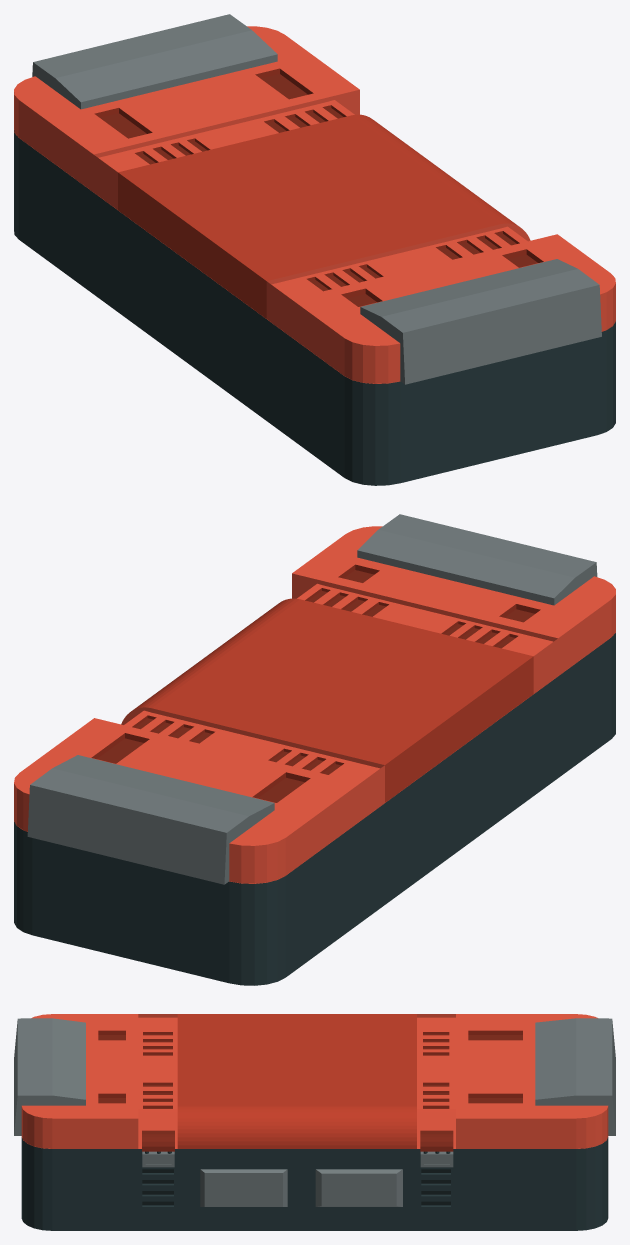
File: BoxFlat.fbx
3 views of the same model, one above another, from view 1: azimuth 30°, elevation 25°; view 2: azimuth 150°, elevation 25°; view 3: azimuth 270°, elevation 25° (orthographic). The views are drawn at different scales.
Visible parts, largest first — view 1: Tapa, Base; view 2: Tapa, Base; view 3: Tapa, Base, Cylinder.002, Cylinder.001.
Part boxes in pixels (x1,y1,x2,y2): Tapa: (14, 14, 615, 384); Base: (14, 130, 615, 485); Tapa: (14, 514, 615, 884); Base: (14, 632, 615, 985); Tapa: (14, 1014, 615, 1148); Base: (21, 1137, 608, 1230); Cylinder.002: (420, 1130, 453, 1167); Cylinder.001: (142, 1130, 174, 1167).
Size of the model in its own units: 206 by 109 by 487.
